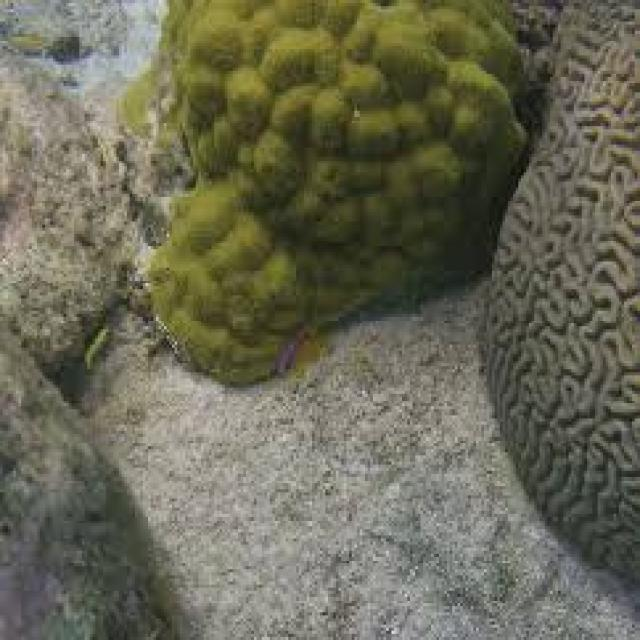Coral: (112, 0, 529, 390), (484, 0, 640, 588)
